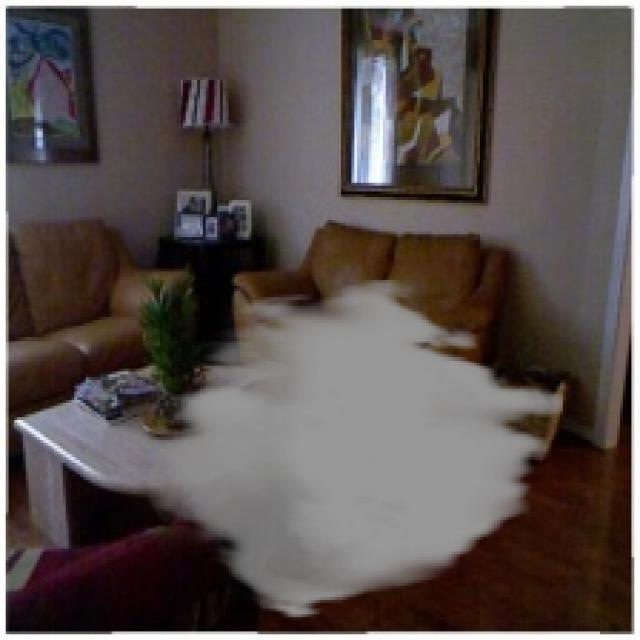smoke: (148, 277, 563, 620)
